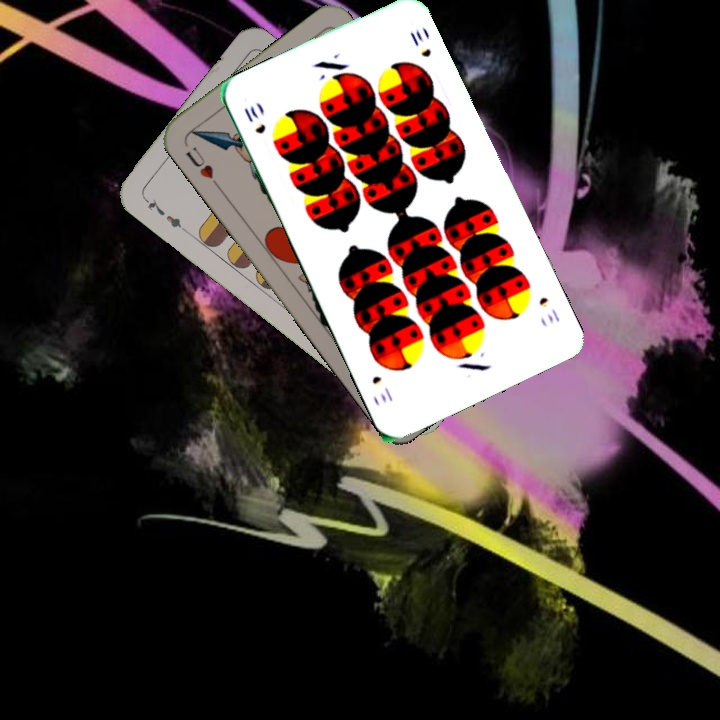E7: (139, 193, 190, 235)
HU: (182, 142, 222, 190)
S10: (239, 101, 269, 137), (534, 292, 563, 326)
